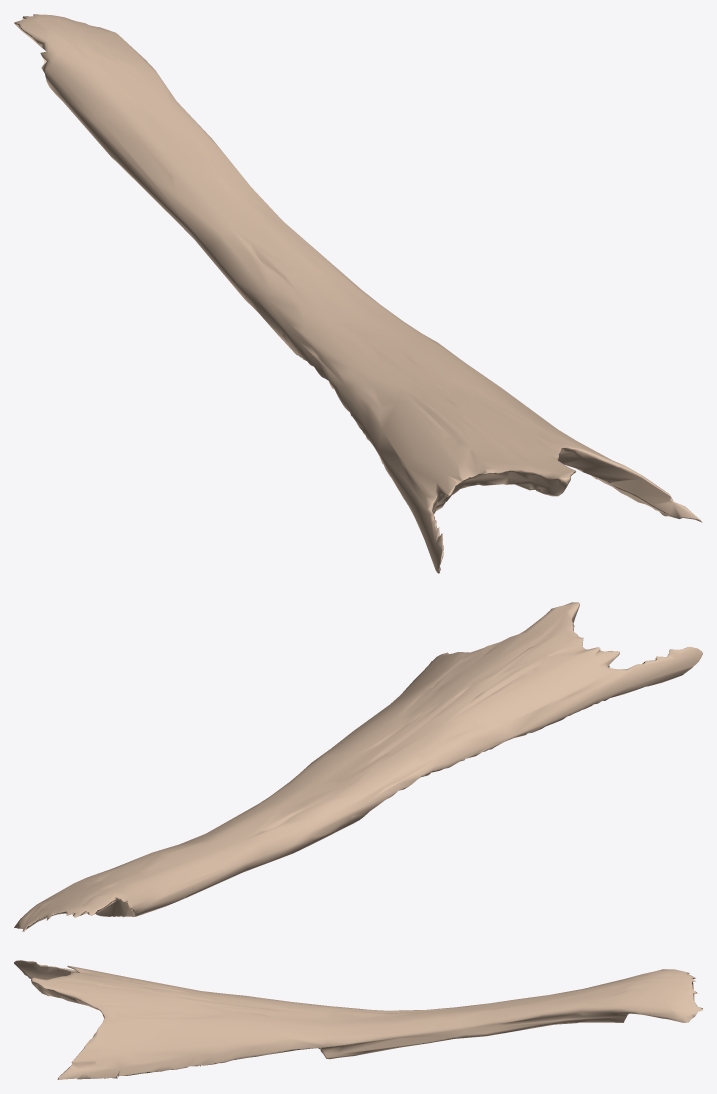
3 views of the same model, one above another, from view 1: azimuth 30°, elevation 25°; view 2: azimuth 150°, elevation 25°; view 3: azimuth 270°, elevation 25° (orthographic). The views are drawn at different scales.
Visible parts, largest first — view 1: 右侧跟腱; view 2: 右侧跟腱; view 3: 右侧跟腱.
Part boxes in pixels (x1=…): 右侧跟腱: x1=14, y1=14, x2=702, y2=573; 右侧跟腱: x1=14, y1=602, x2=702, y2=931; 右侧跟腱: x1=14, y1=960, x2=702, y2=1079.
Bounding box in the file's own units: 0.093 × 0.0401 × 0.3243.
